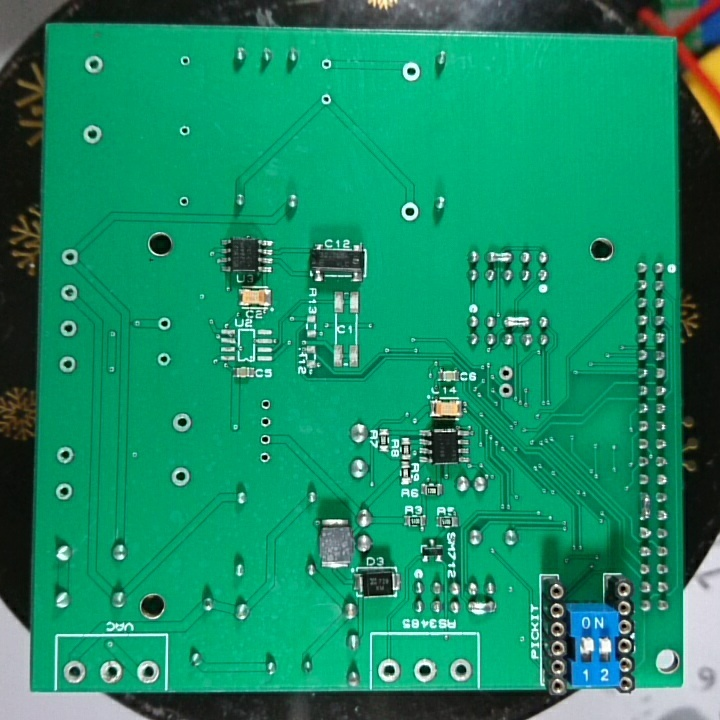F: (411, 658, 440, 686), (377, 655, 404, 684), (98, 660, 126, 686), (135, 659, 162, 685), (62, 659, 87, 686), (400, 57, 423, 86), (169, 411, 196, 435), (399, 200, 422, 227), (80, 122, 104, 147), (169, 466, 194, 489), (83, 53, 106, 78), (449, 658, 472, 682), (56, 352, 80, 375), (52, 480, 75, 503), (58, 282, 81, 304), (55, 443, 76, 466), (58, 318, 80, 339), (60, 247, 81, 268), (496, 380, 516, 401), (155, 349, 173, 370), (497, 365, 517, 382), (157, 315, 174, 334), (258, 396, 274, 413), (257, 414, 275, 429), (320, 56, 334, 74), (176, 124, 192, 139), (257, 432, 274, 446), (178, 193, 192, 210), (178, 54, 193, 69), (319, 92, 333, 108), (258, 449, 270, 466)
P: (466, 598, 499, 618), (486, 248, 514, 267), (502, 312, 533, 329), (637, 490, 652, 522)
